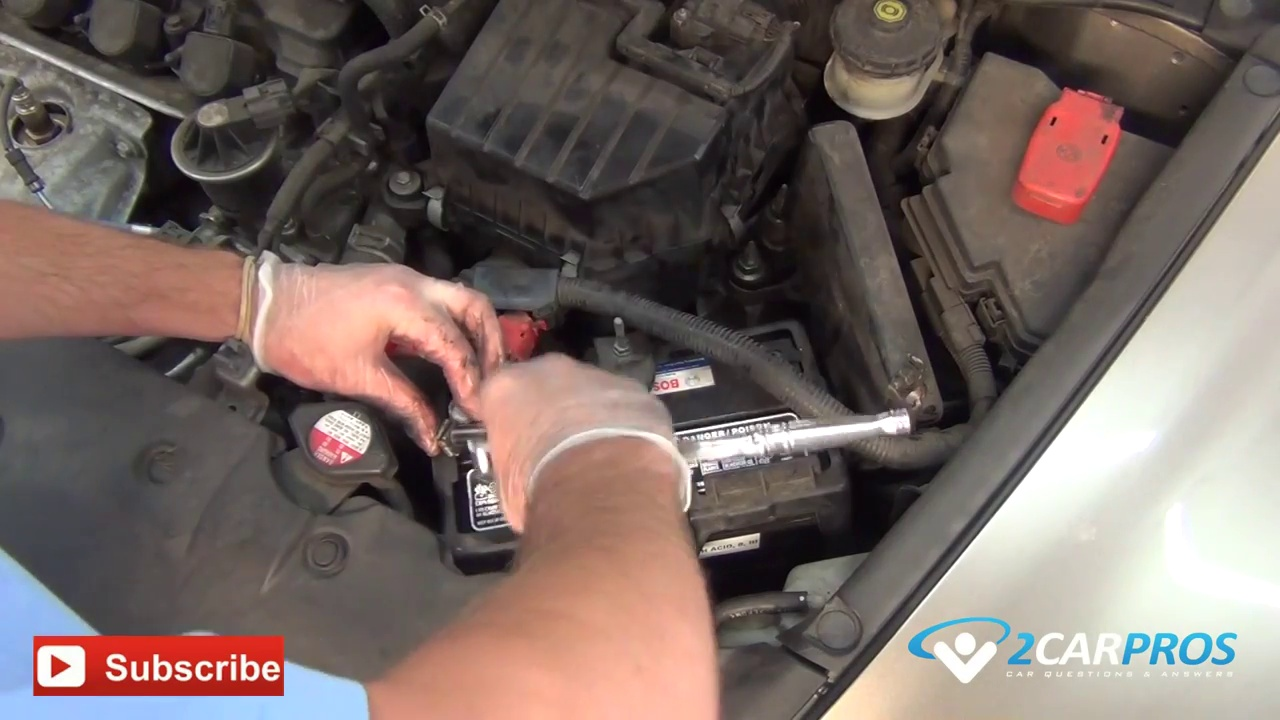battery: (435, 337, 826, 539)
pos_touched: (397, 291, 546, 421)
